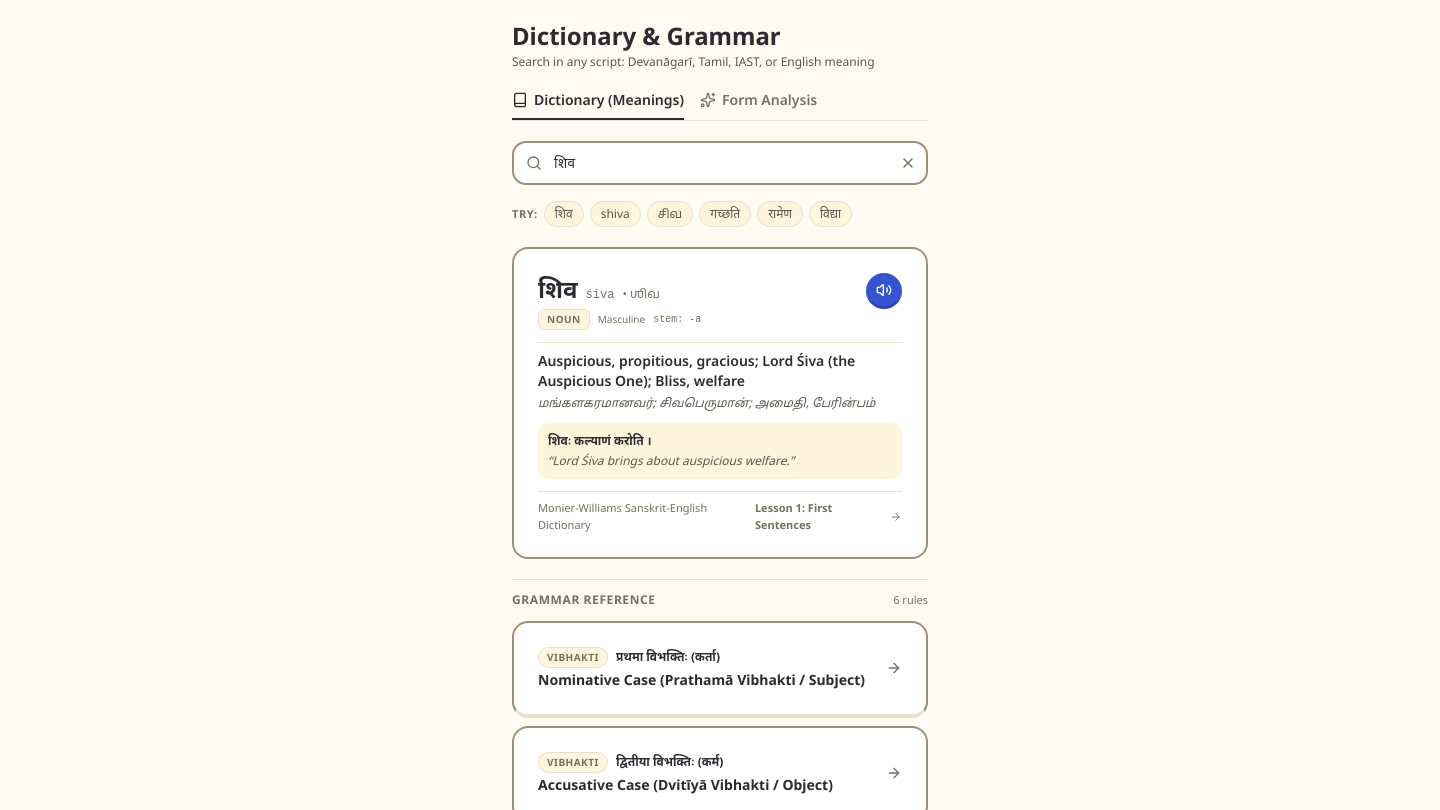
Test: Dictionary & Grammar UI (SPEC §11.1 & §11.2) › opens GrammarDetailModal when clicking on a grammar rule card and allows closing it
Click the element with test id "grammar-rule-card-prathama-vibhakti".
click(720, 669)  # box 512,620 -> 928,718
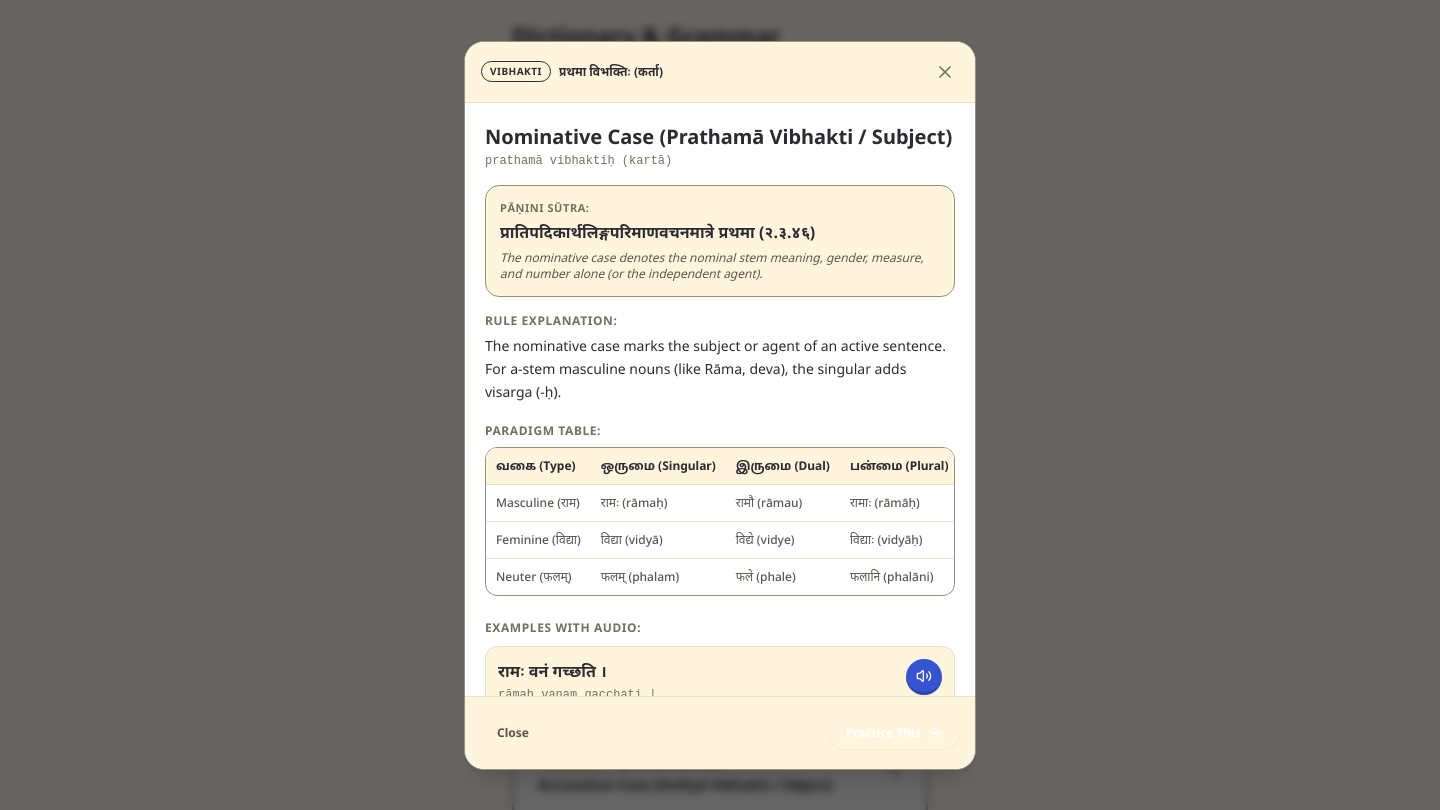
Check: the element with test id "grammar-detail-modal" is shown
Check: the text "प्रातिपदिकार्थलिङ्गपरिमाणवचनमात्रे प्रथमा (२.३.४६)" is shown, box 500,221 -> 815,243
// Close modal
Click the button with test id "close-grammar-modal-btn".
click(945, 72)  # box 931,58 -> 959,86
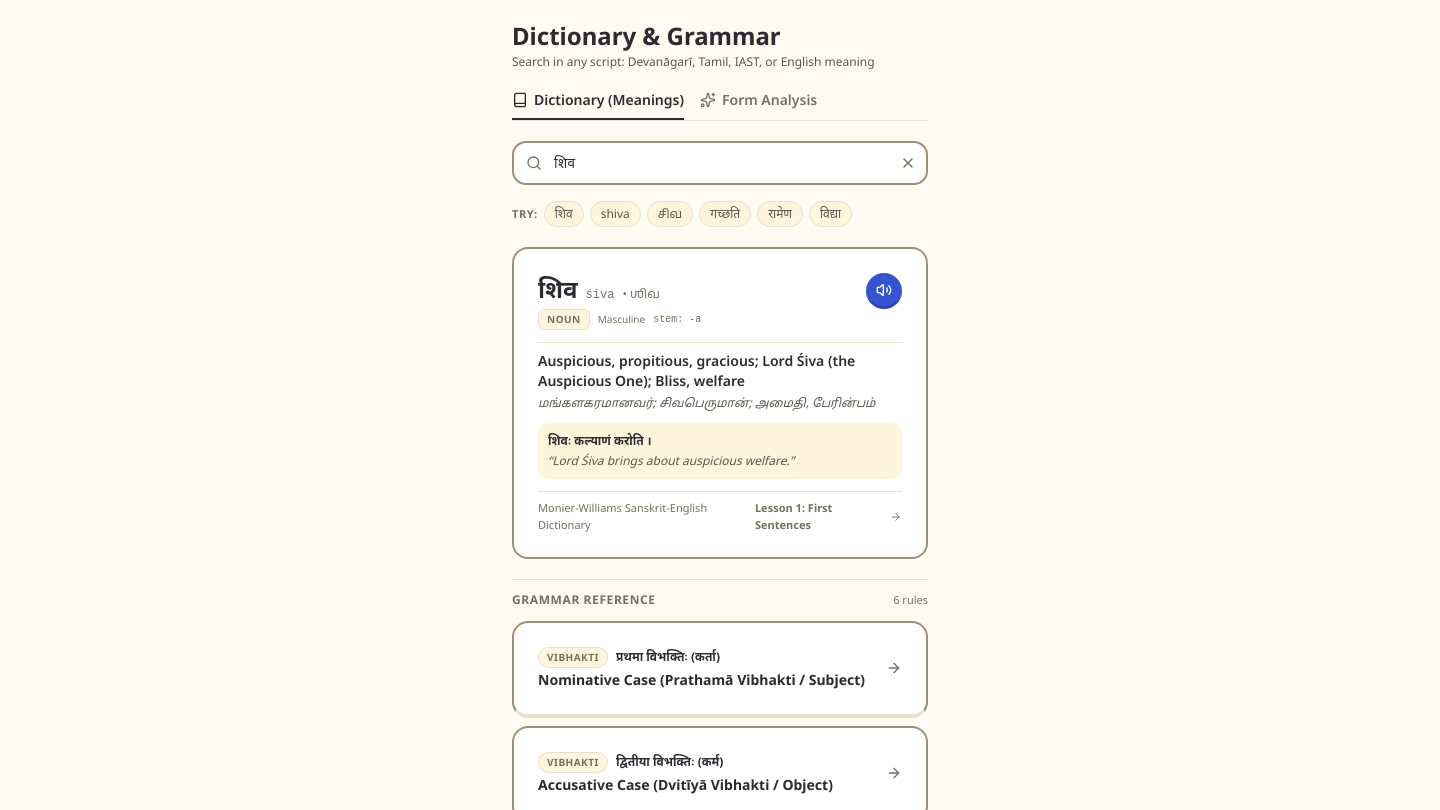
Check: the element with test id "grammar-detail-modal" is gone
